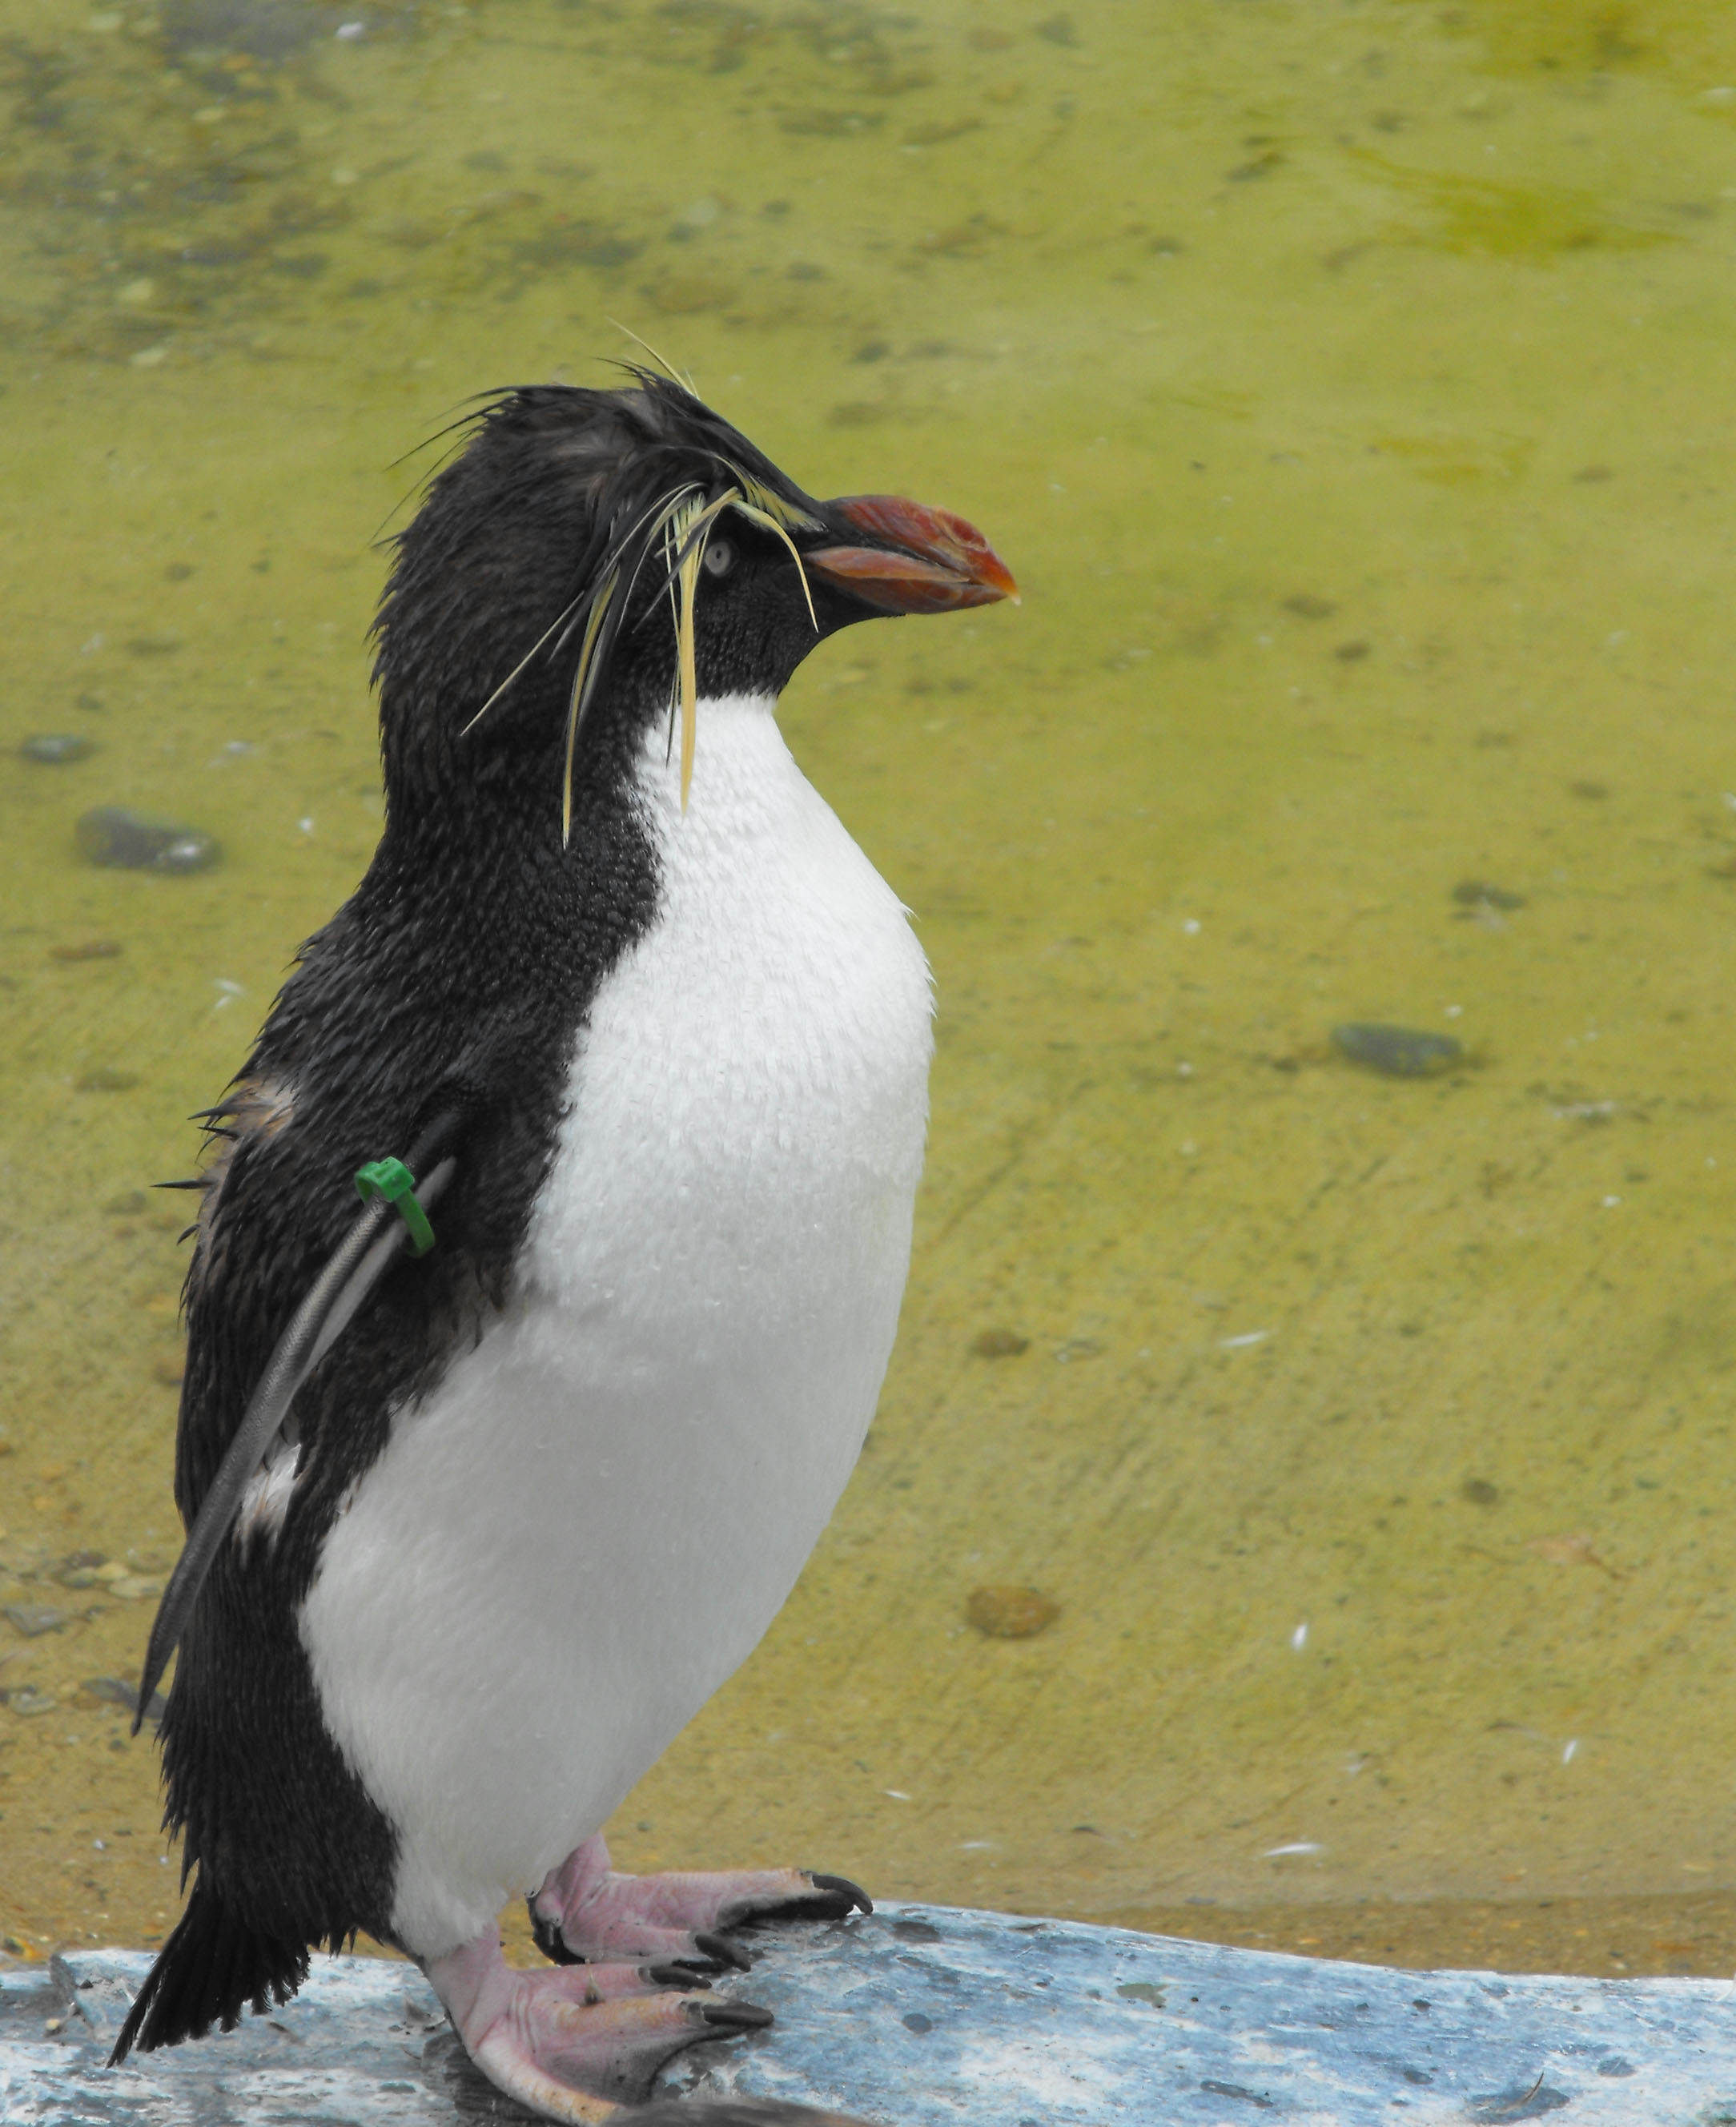penguin: (129, 366, 1031, 2127)
